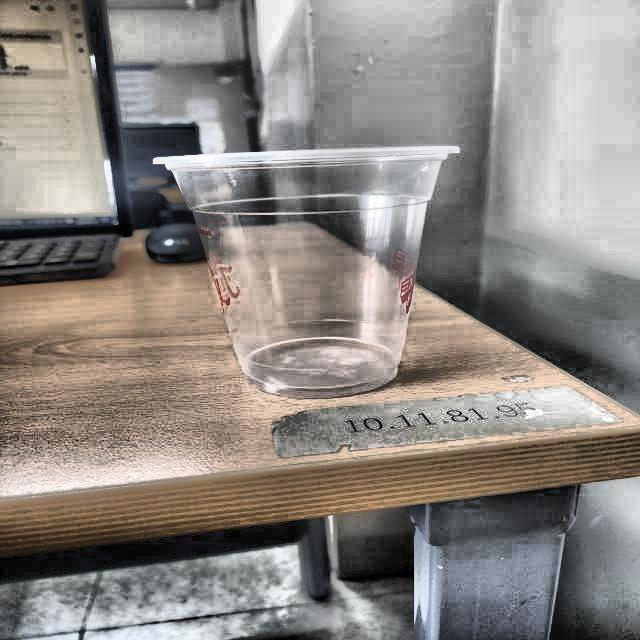plastic cup: (148, 144, 463, 398)
